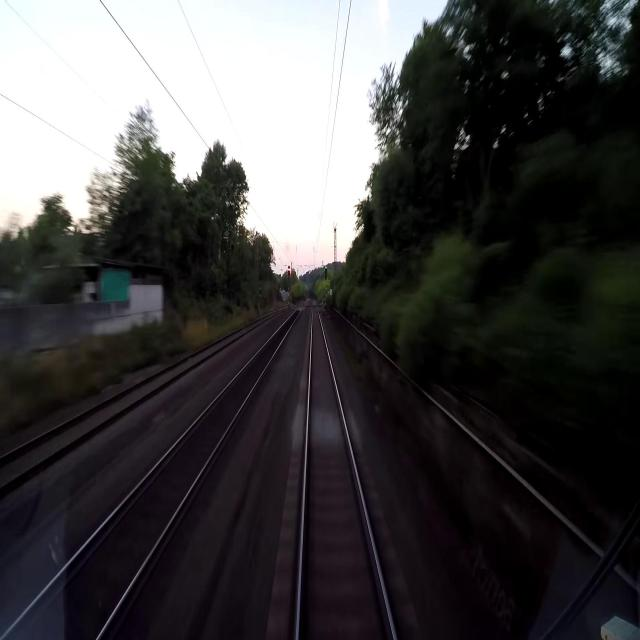rail-track: (5, 306, 302, 639), (0, 321, 258, 484), (300, 297, 393, 639)
